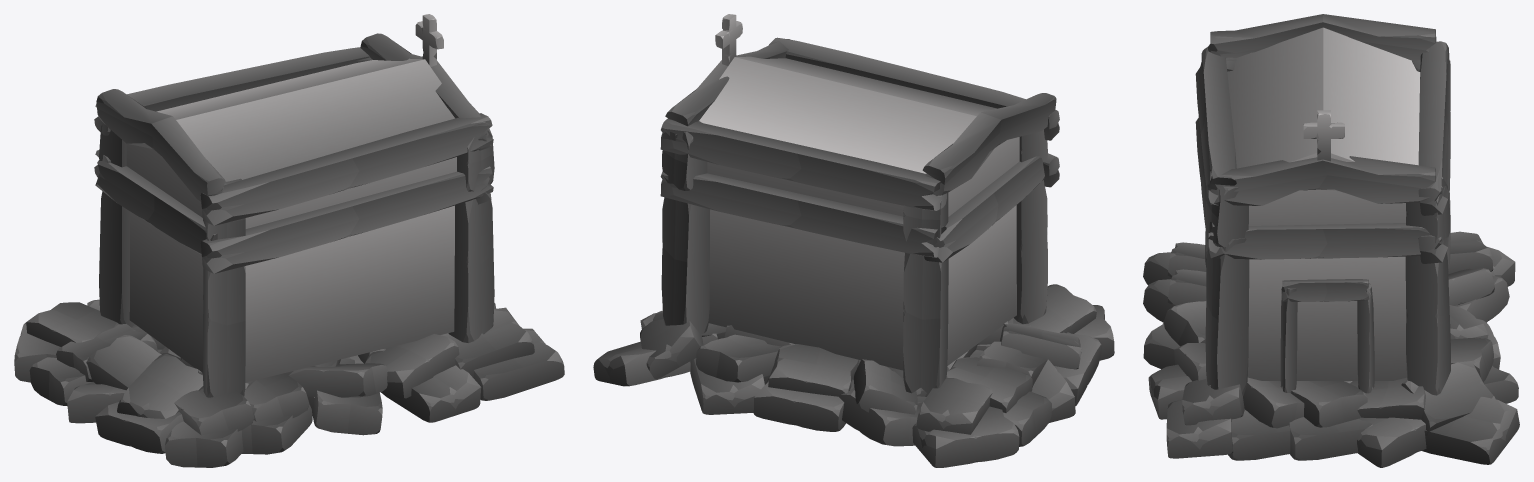
File: House.fbx
The picture shows the model from 3 angles, left to right: view 1: azimuth 30°, elevation 25°; view 2: azimuth 150°, elevation 25°; view 3: azimuth 270°, elevation 25°; orthographic projection. The views are drawn at different scales.
Parts seen in each view (by area): view 1: Cube.066, Cube.071, Cube.078, Cube.074, Cube.082, Cube.068, Cube.067, Cube.077, Cube.072, Cube.070, Cube.046, Cube.044 (+21 smaller); view 2: Cube.066, Cube.071, Cube.077, Cube.073, Cube.069, Cube.070, Cube.082, Cube.078, Cube.072, Cube.067, Cube.036, Cube.063 (+21 smaller); view 3: Cube.071, Cube.066, Cube.081, Cube.055, Cube.068, Cube.069, Cube.082, Cube.077, Cube.078, Cube.040, Cube.065, Cube.035 (+30 smaller).
Part boxes in pixels (box(x1,y1,x2,y2)): Cube.066: box(129, 205, 454, 382); Cube.071: box(126, 58, 456, 228); Cube.078: box(200, 113, 493, 225); Cube.074: box(200, 166, 493, 273); Cube.082: box(96, 89, 225, 201); Cube.068: box(448, 199, 494, 342); Cube.067: box(203, 266, 245, 397); Cube.077: box(94, 47, 369, 135); Cube.072: box(95, 160, 217, 254); Cube.070: box(99, 191, 134, 327); Cube.046: box(117, 354, 203, 418); Cube.044: box(365, 334, 459, 398); Cube.066: box(708, 205, 1016, 370); Cube.071: box(699, 56, 1019, 216); Cube.077: box(660, 118, 946, 210); Cube.073: box(660, 171, 946, 257); Cube.069: box(661, 197, 710, 334); Cube.070: box(903, 252, 948, 393); Cube.082: box(922, 93, 1056, 195); Cube.078: box(769, 37, 1059, 140); Cube.072: box(924, 156, 1044, 262); Cube.067: box(1014, 180, 1047, 323); Cube.036: box(912, 406, 1019, 467); Cube.063: box(768, 344, 858, 396); Cube.071: box(1227, 27, 1420, 225); Cube.066: box(1247, 256, 1406, 380); Cube.081: box(1208, 156, 1435, 205); Cube.055: box(1208, 223, 1430, 259); Cube.068: box(1205, 238, 1249, 395); Cube.069: box(1405, 252, 1450, 395); Cube.082: box(1208, 14, 1436, 60); Cube.077: box(1418, 41, 1450, 215); Cube.078: box(1195, 47, 1236, 205); Cube.040: box(1422, 396, 1519, 464); Cube.065: box(1401, 361, 1495, 435); Cube.035: box(1357, 417, 1426, 467).
Bounding box in the file's own units: 336 × 250 × 259.
Materials: 1 (1 with a texture image).
